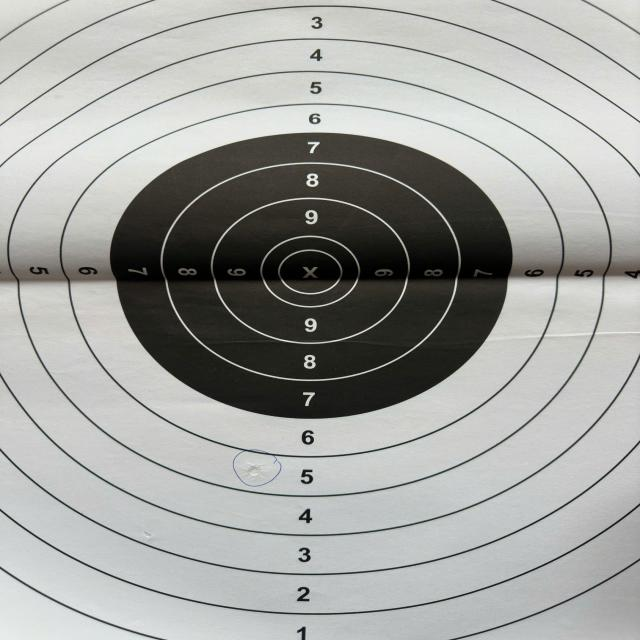bullet: (248, 467, 259, 478), (142, 531, 151, 539)
target: (0, 0, 640, 640)
